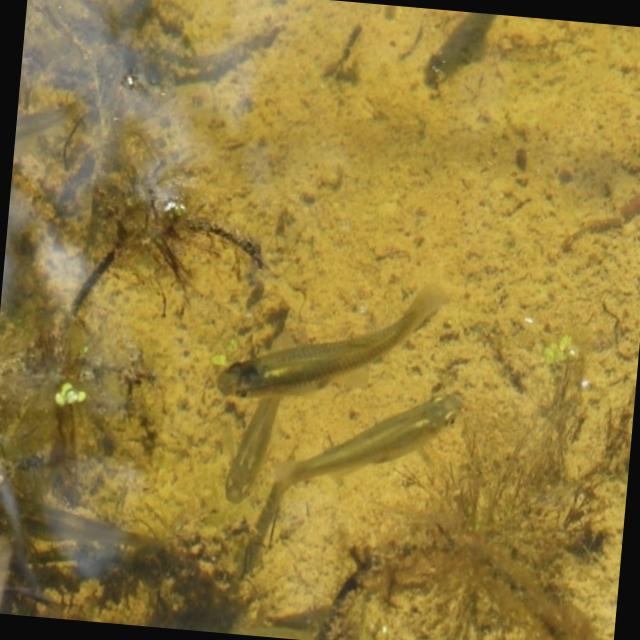Sivrisinek Baligi: (207, 258, 445, 420), (258, 366, 472, 530), (206, 386, 287, 504), (12, 78, 87, 185)
